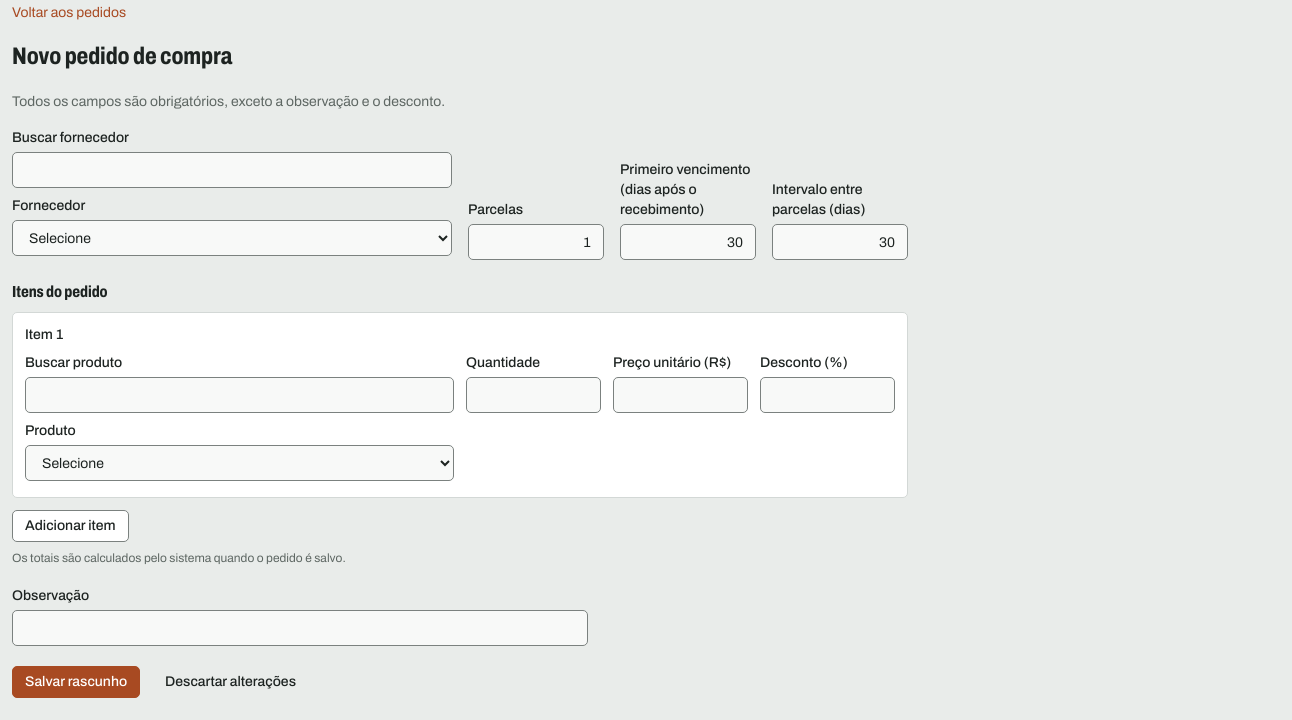
Scenario: NewPurchaseOrderScreen › puts each line in a named group, so a repeated field says which item it belongs to
The image size is (1292, 720).
Expected: the dropdown labelled "Fornecedor" is shown, [12,220,452,256]
Click the button "Adicionar item" at (70, 526), box [12,510,129,542]
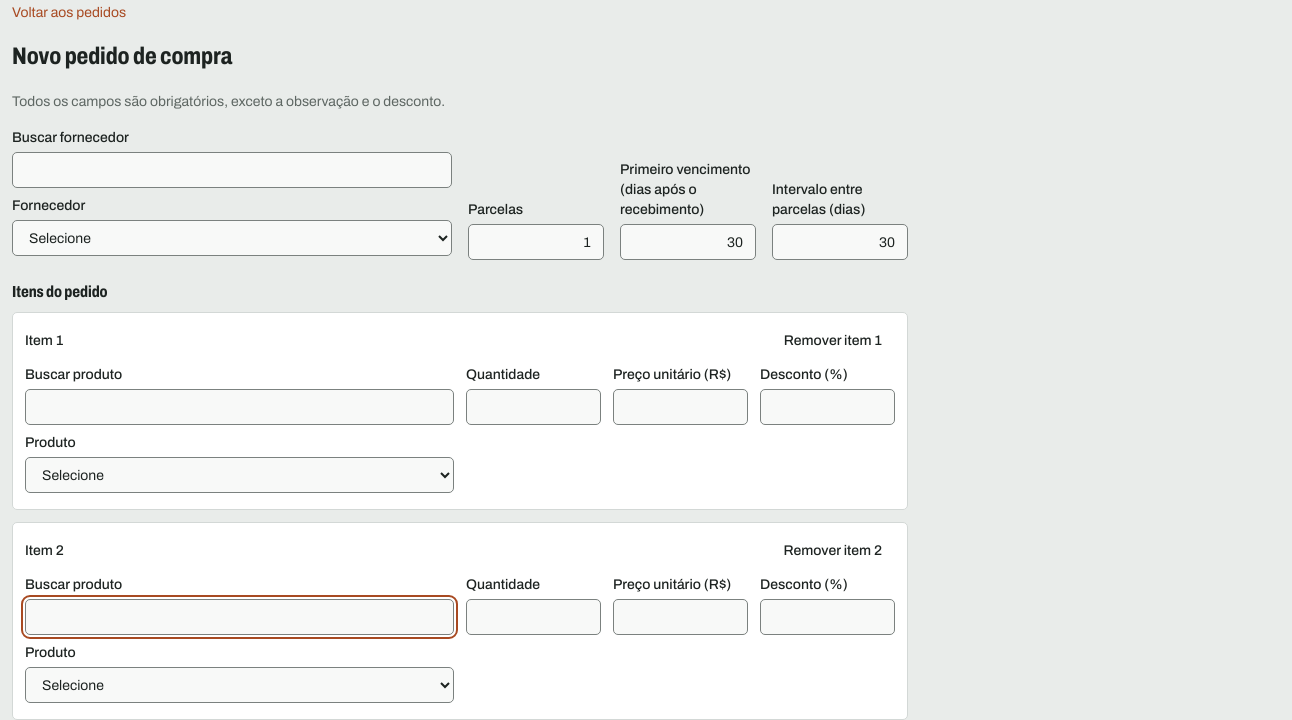
Expected: the 1st field labelled "Preço unitário (R$)" is shown, [613,389,748,425]
Expected: the 2nd field labelled "Preço unitário (R$)" is shown, [613,599,748,635]
Expected: the heading "Item 2" is shown, [25,541,64,561]
